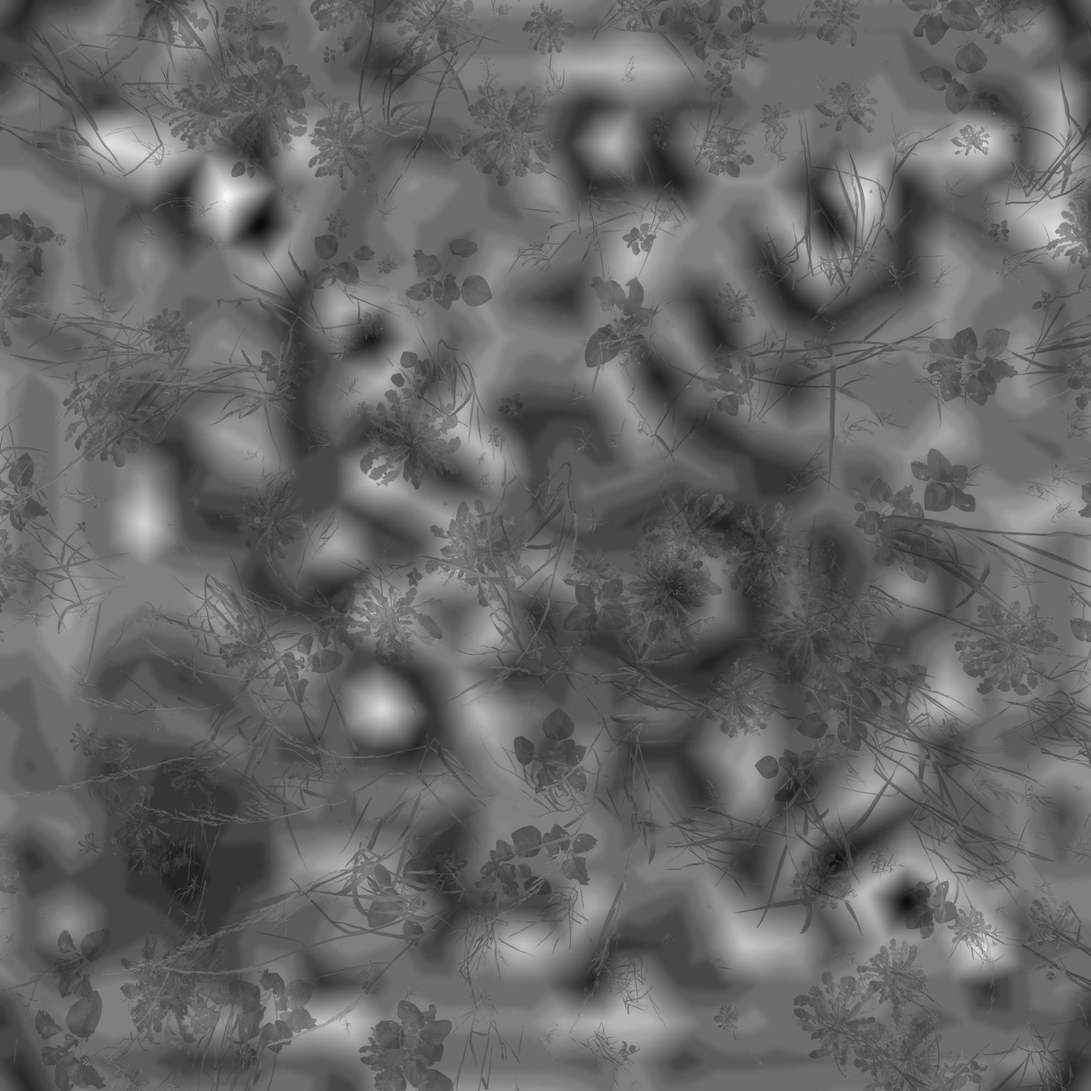landmine: (600, 511, 758, 658), (120, 804, 245, 919)
